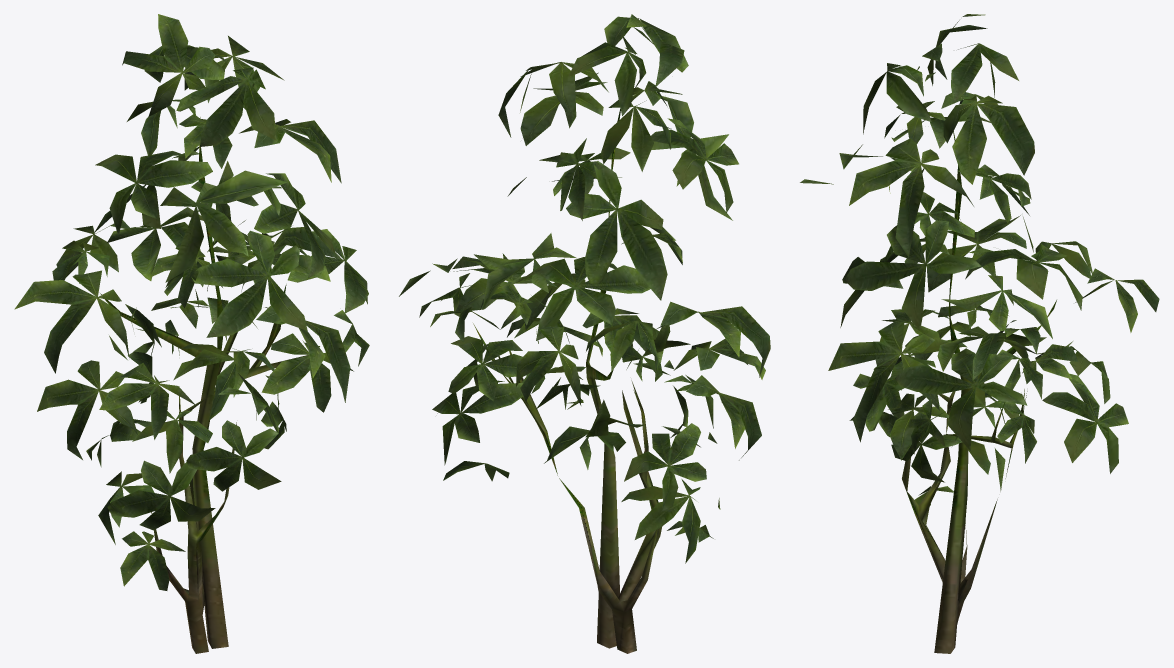
The model's file is plant_pachira.glb.
3 renders of one model, left to right at view 1: azimuth 30°, elevation 25°; view 2: azimuth 150°, elevation 25°; view 3: azimuth 270°, elevation 25°, orthographic. The views are drawn at different scales.
Parts seen in each view (by area): view 1: plant_pachira; view 2: plant_pachira; view 3: plant_pachira.
Boxes of the visible parts, x1,y1,x2,y2 form: plant_pachira: [14, 14, 369, 653]; plant_pachira: [399, 14, 770, 653]; plant_pachira: [800, 14, 1159, 653].
Bounding box in the file's own units: 1.05 × 1.9 × 0.9971.
1 material, 1 textured.
